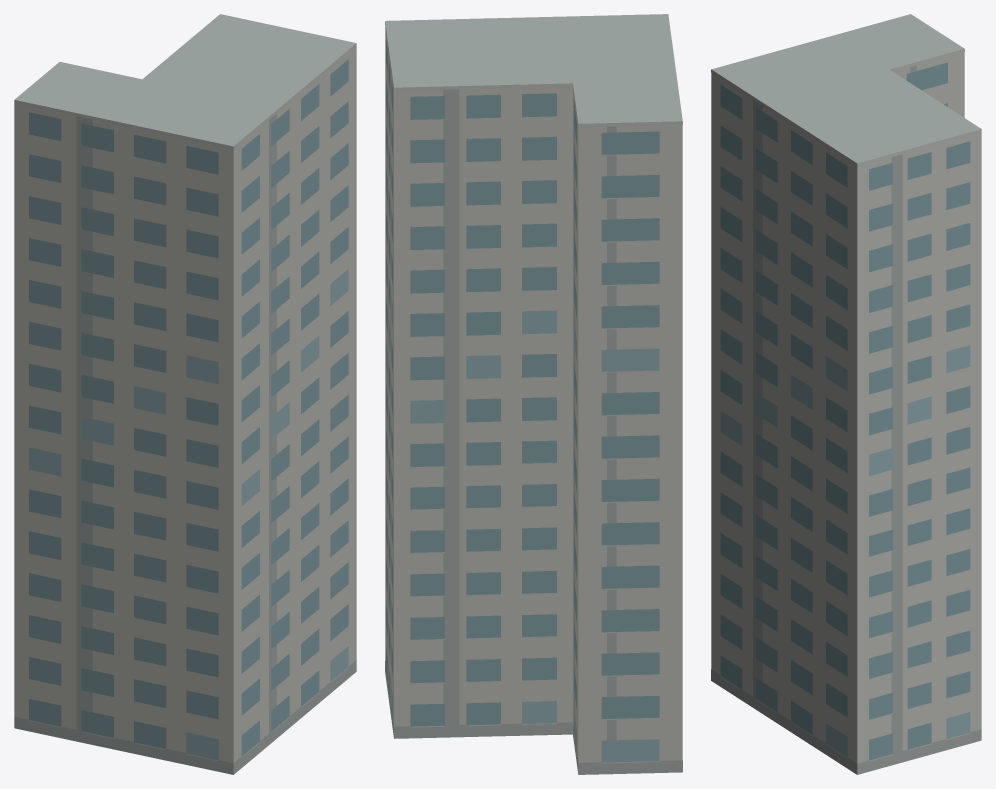
The model's file is residential-92e5db73-102b-464d-a7ce-c80cf46336a2.glb.
The picture shows the model from 3 angles, left to right: view 1: azimuth 30°, elevation 25°; view 2: azimuth 150°, elevation 25°; view 3: azimuth 270°, elevation 25°; orthographic projection. The views are drawn at different scales.
Visible parts, largest first — view 1: residential-92e5db73-102b-464d-a7ce-c80cf46336a2.tmp; view 2: residential-92e5db73-102b-464d-a7ce-c80cf46336a2.tmp; view 3: residential-92e5db73-102b-464d-a7ce-c80cf46336a2.tmp.
Part boxes in pixels (box(x1,y1,x2,y2)): residential-92e5db73-102b-464d-a7ce-c80cf46336a2.tmp: box(14, 14, 356, 774); residential-92e5db73-102b-464d-a7ce-c80cf46336a2.tmp: box(385, 14, 682, 774); residential-92e5db73-102b-464d-a7ce-c80cf46336a2.tmp: box(711, 14, 981, 774).
Bounding box in the file's own units: 24.13 × 46 × 18.46.
